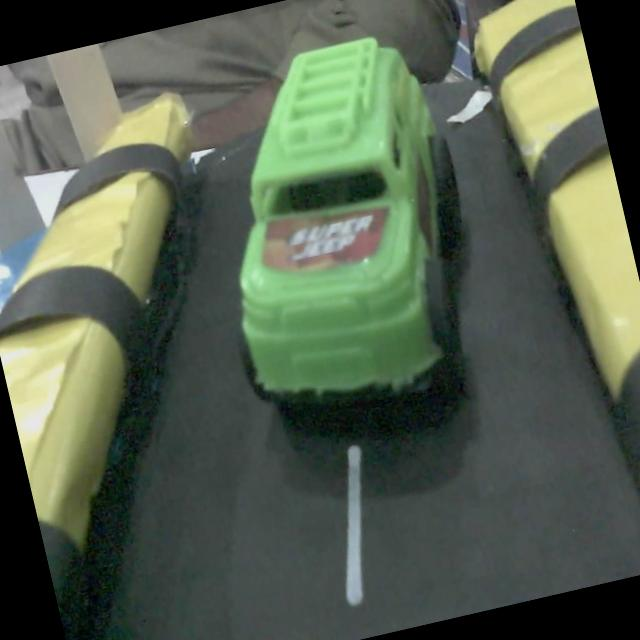OneCar: (235, 45, 459, 427)
